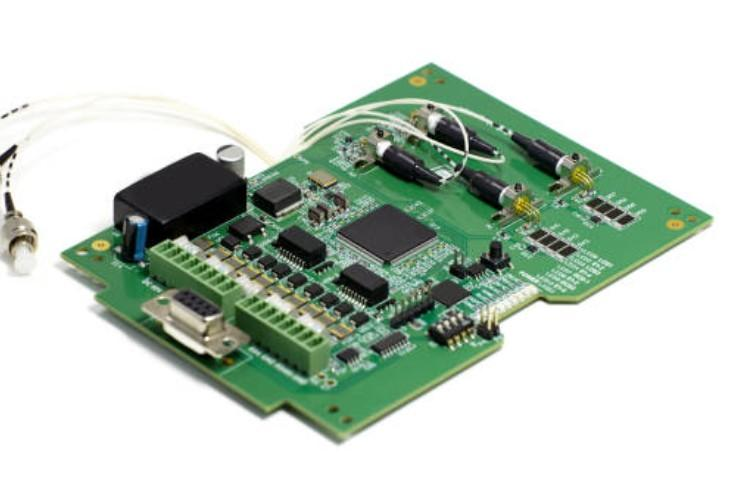Printed Circuit Board PCB: (62, 64, 713, 438)
